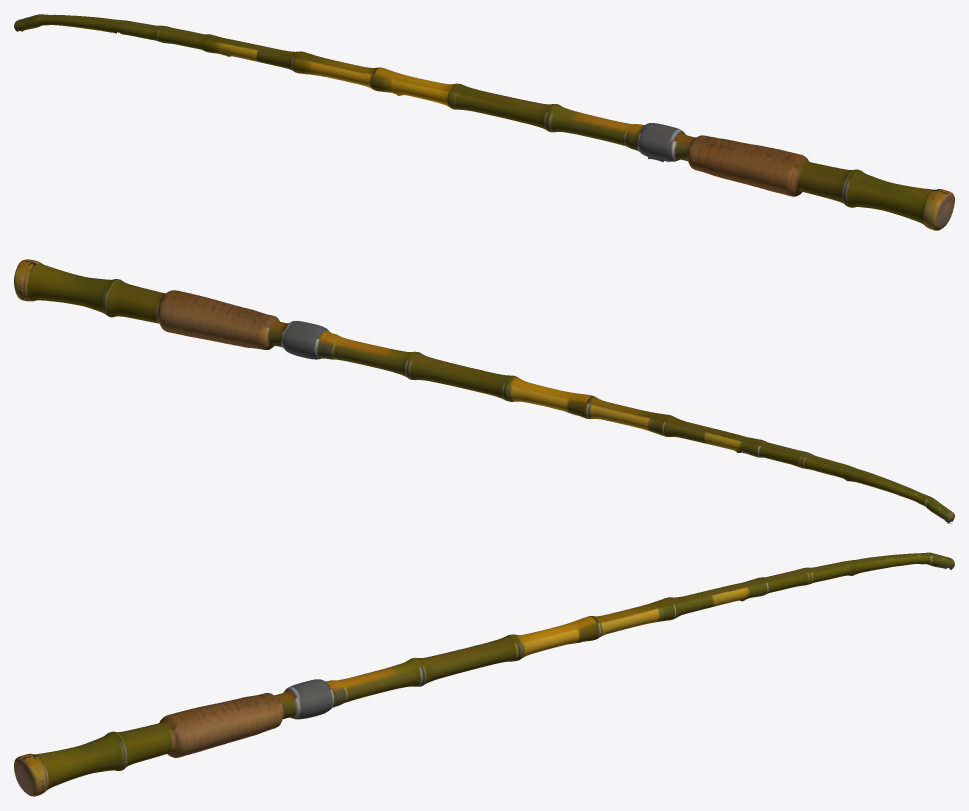
File: YUGAN.fbx
3 views of the same model, one above another, from view 1: azimuth 30°, elevation 25°; view 2: azimuth 210°, elevation 25°; view 3: azimuth 270°, elevation 25° (orthographic). The views are drawn at different scales.
Visible parts, largest first — view 1: tripo_node_da84c023-1bcc-464e-b6e9-2682f89807f1; view 2: tripo_node_da84c023-1bcc-464e-b6e9-2682f89807f1; view 3: tripo_node_da84c023-1bcc-464e-b6e9-2682f89807f1.
Part boxes in pixels (x1,y1,x2,y2): tripo_node_da84c023-1bcc-464e-b6e9-2682f89807f1: (14,14,954,230); tripo_node_da84c023-1bcc-464e-b6e9-2682f89807f1: (14,259,954,523); tripo_node_da84c023-1bcc-464e-b6e9-2682f89807f1: (14,552,954,796).
Size of the model in its own units: 54.14 by 5.58 by 86.03.
